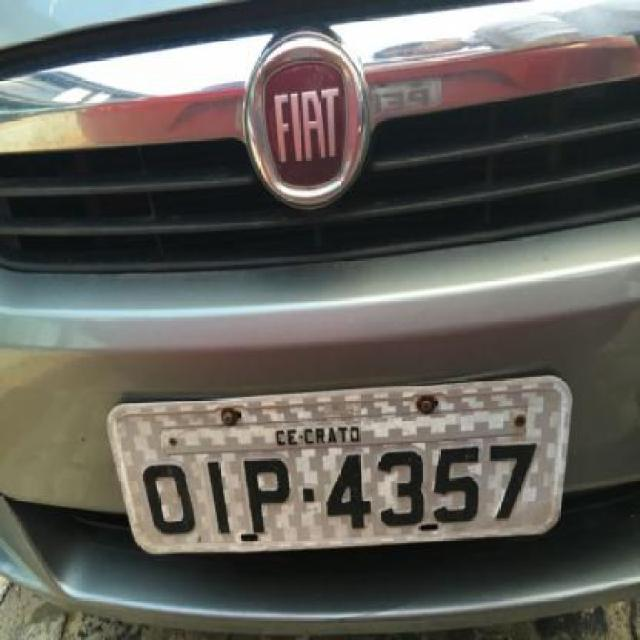old_plate: (100, 367, 583, 562)
